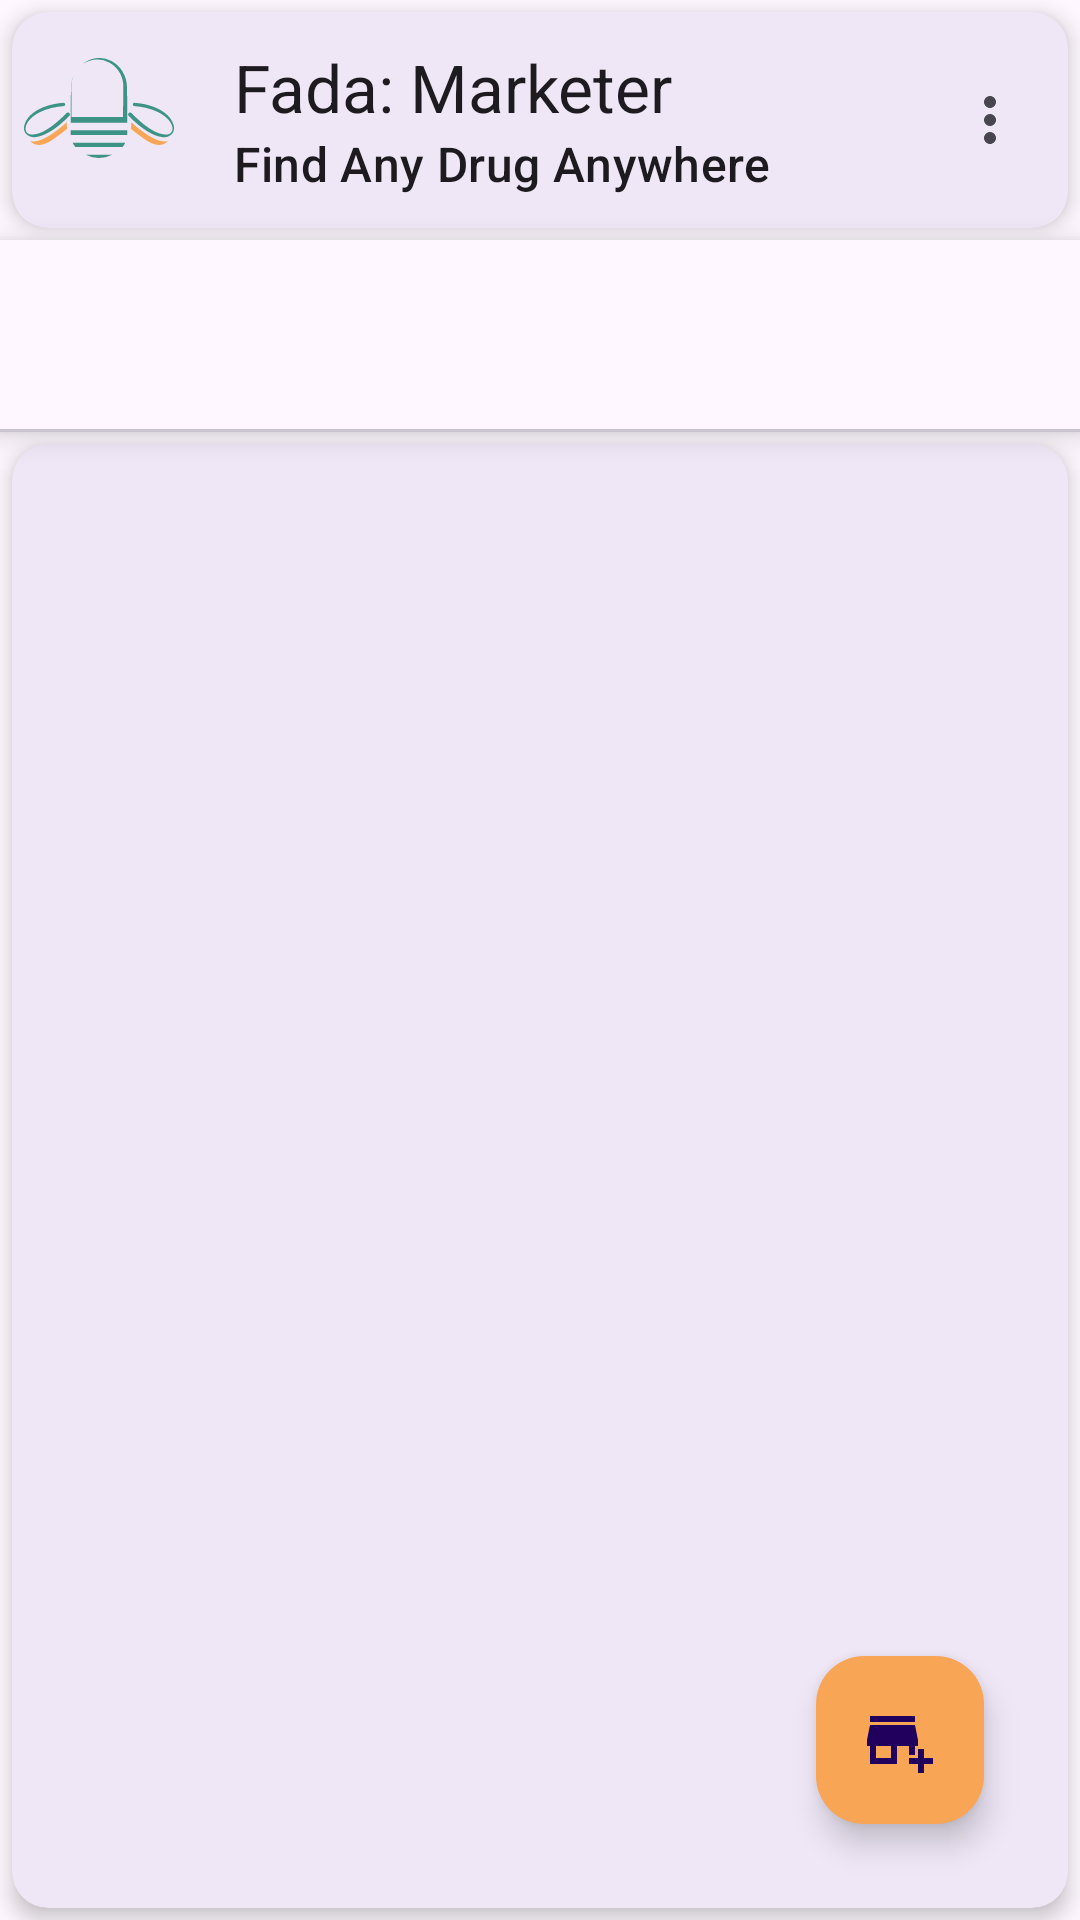

Named icons in this screenshot (1080 x 1920) and their centers, point (x, y):
Add Pharmacy: point (900, 1740)
